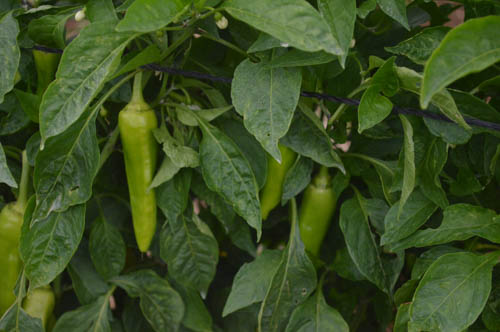ChiliPepper: (116, 108, 159, 250), (2, 205, 29, 312), (256, 142, 290, 226), (299, 183, 332, 262)
